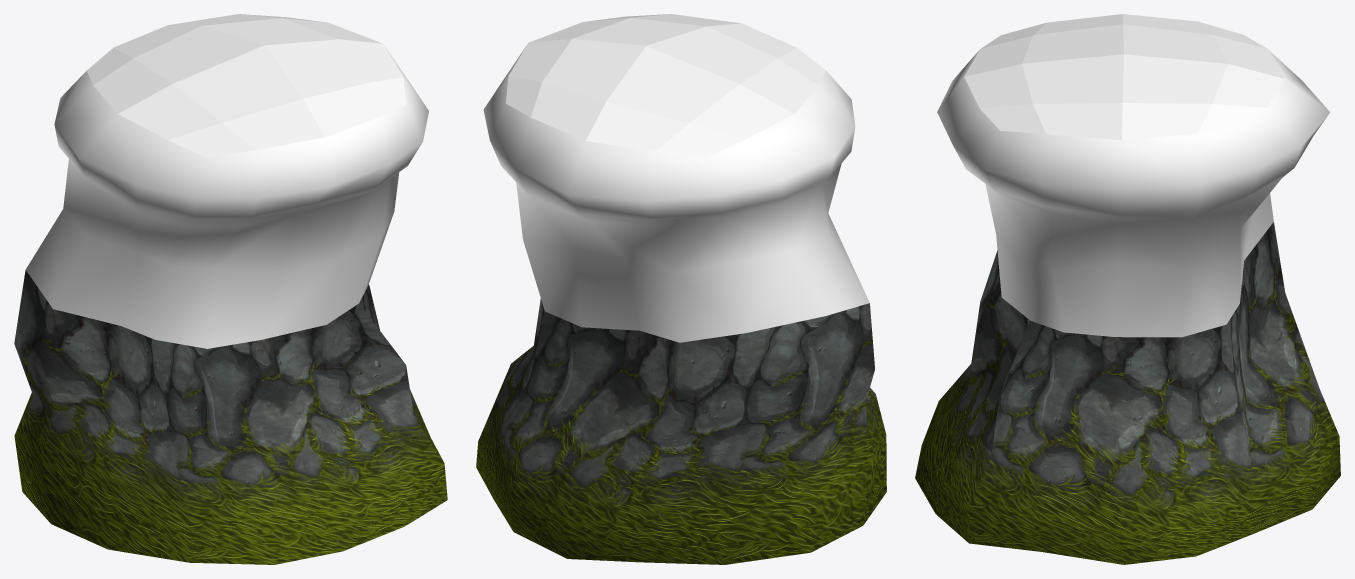
File: PlatformGrass1_LOD0.fbx
The picture shows the model from 3 angles, left to right: view 1: azimuth 30°, elevation 25°; view 2: azimuth 150°, elevation 25°; view 3: azimuth 270°, elevation 25°; orthographic projection. The views are drawn at different scales.
Visible parts, largest first — view 1: Default_Layer; view 2: Default_Layer; view 3: Default_Layer.
Part boxes in pixels (x1,y1,x2,y2): Default_Layer: (14, 14, 447, 564); Default_Layer: (476, 14, 886, 564); Default_Layer: (915, 14, 1340, 564).
Size of the model in its own units: 943 by 1025 by 908.
